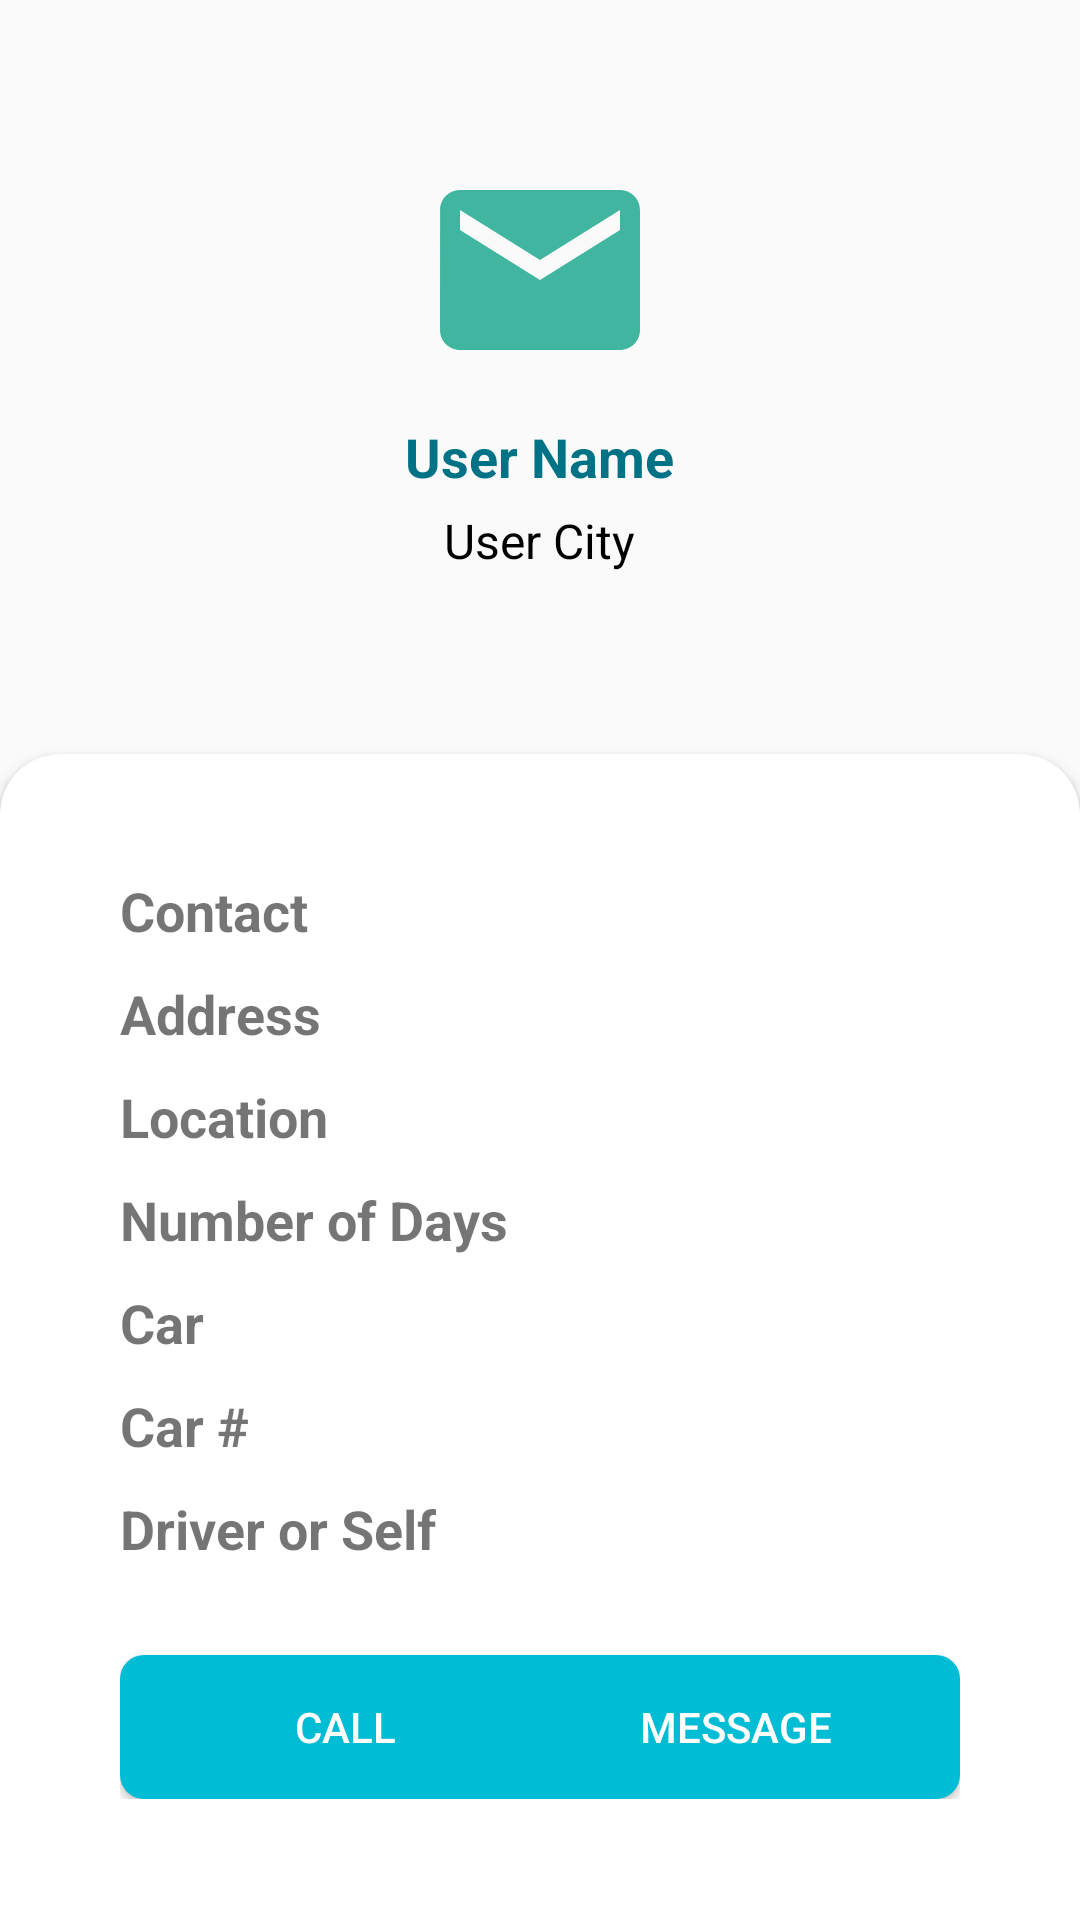

Named icons in this screenshot (1080 x 1920) and their bounding boxes, (x1=x1, y1=y1, x2=x2, y2=y2):
email: (x1=440, y1=190, x2=640, y2=350)
